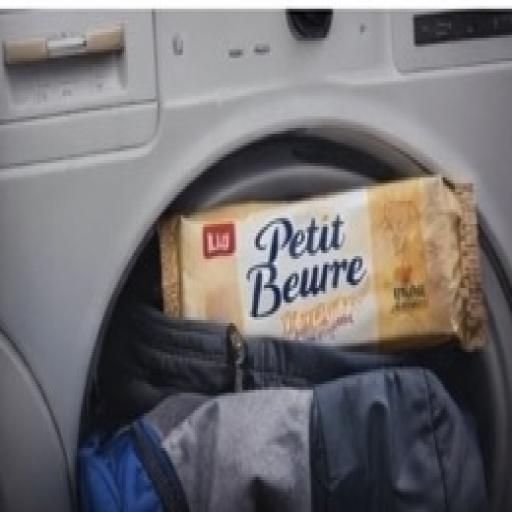petit_beurre: (120, 125, 501, 403)
